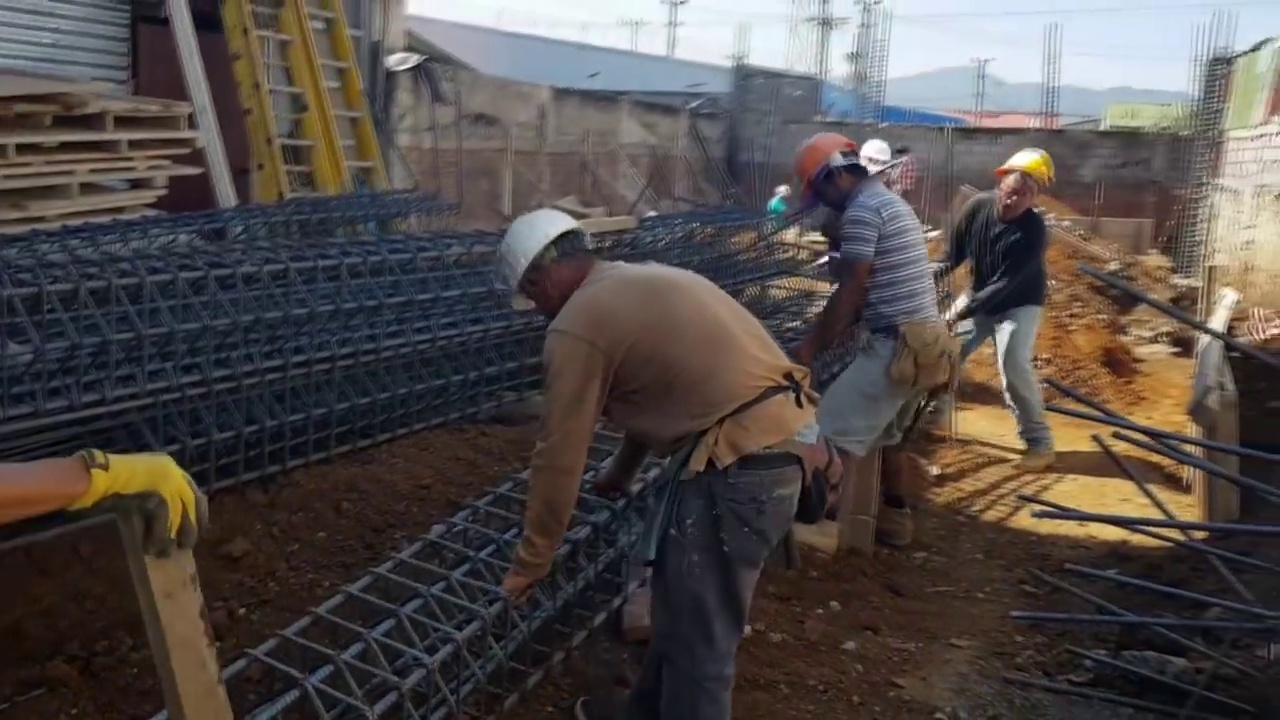helmet: (495, 204, 583, 311), (795, 133, 857, 195), (994, 148, 1056, 189), (860, 137, 890, 163), (775, 184, 791, 197)
helmet-off: (894, 143, 910, 160)
helmet-on: (493, 200, 612, 328), (795, 129, 872, 211), (988, 146, 1065, 227), (774, 183, 794, 201)
person: (498, 197, 831, 719), (796, 128, 940, 544), (942, 148, 1064, 460), (891, 141, 919, 198), (767, 182, 793, 217)
